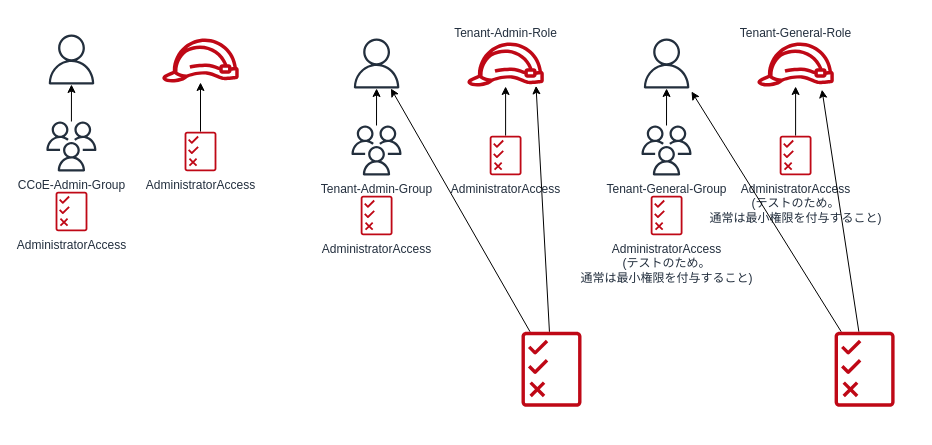
Image size: 932x445. Some labels were removed from this diagram. The shapes that lost their labels are listed below. From the top down, each one's centre as x and y in pixels, then its label:
At pixel 71 59: "CCoE-Admin-User".
At pixel 200 60: "CCoE-Admin-Role".
At pixel 376 63: "Tenant-Admin-User".
At pixel 666 63: "Tenant-General-User".
At pixel 551 368: "PB-HighAuthority-Policy".
At pixel 864 368: "PB-General-Policy".
